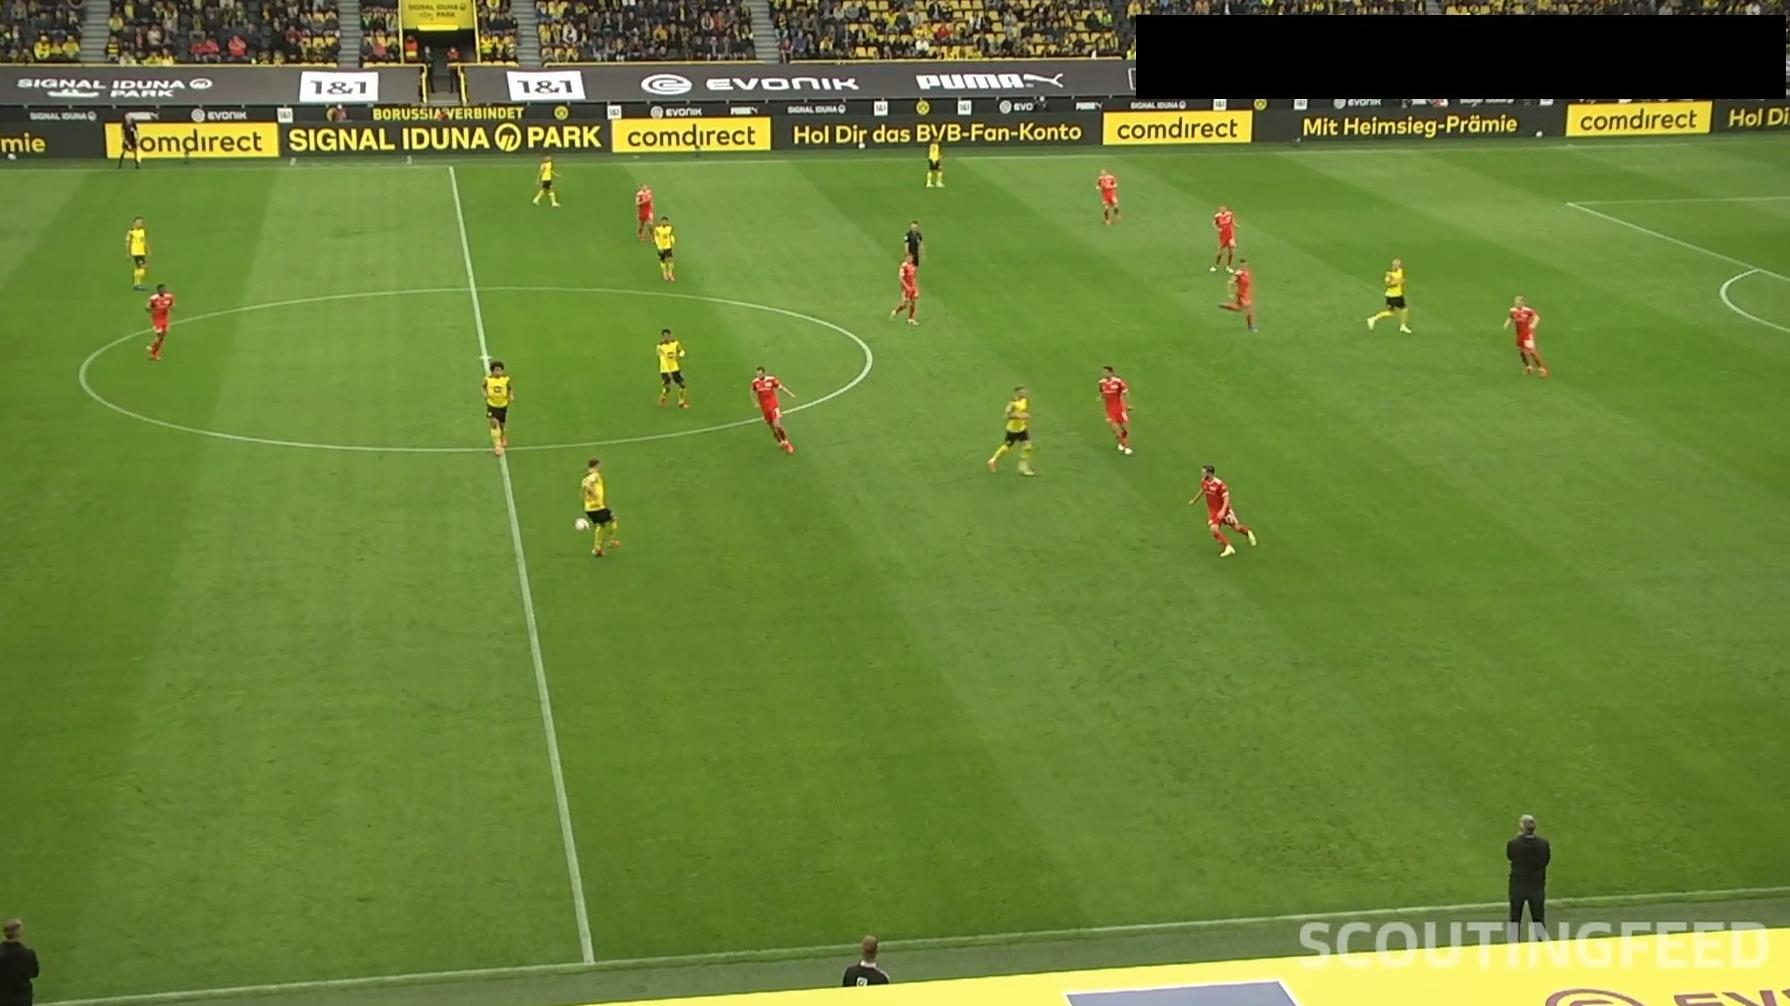ball: (570, 517, 591, 535)
